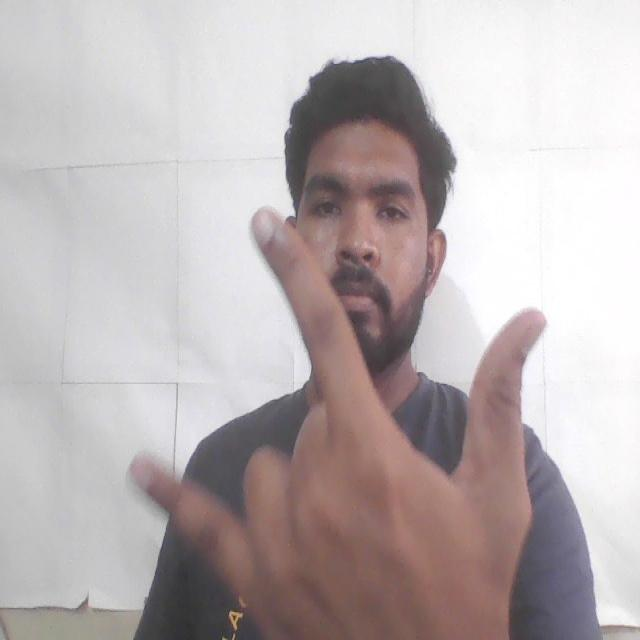ILoveYou: (85, 190, 564, 640)
